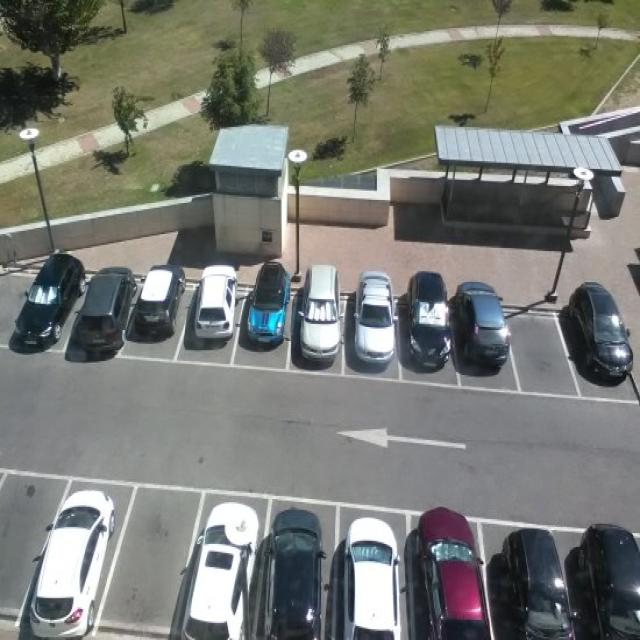libre: (86, 478, 209, 638), (0, 462, 72, 631), (499, 284, 590, 405)
ocupado: (18, 476, 137, 638), (172, 481, 279, 638), (474, 513, 593, 638), (257, 486, 340, 638), (336, 497, 417, 638), (407, 512, 496, 638), (555, 274, 639, 401), (6, 249, 97, 360), (449, 268, 524, 401), (562, 517, 639, 638), (178, 254, 250, 367), (62, 264, 143, 364), (125, 254, 202, 359), (396, 265, 462, 386), (286, 265, 351, 383), (232, 260, 297, 372), (348, 265, 402, 385)
